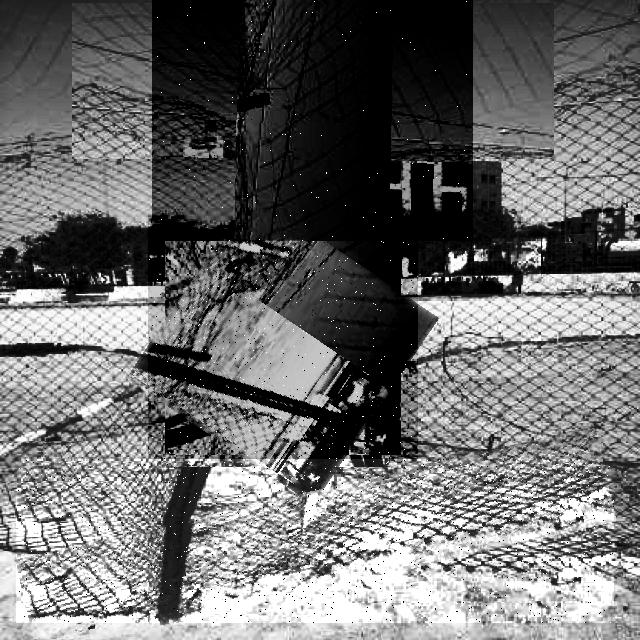anomaly-fence: (17, 459, 614, 623), (152, 0, 473, 241), (148, 214, 418, 483)
